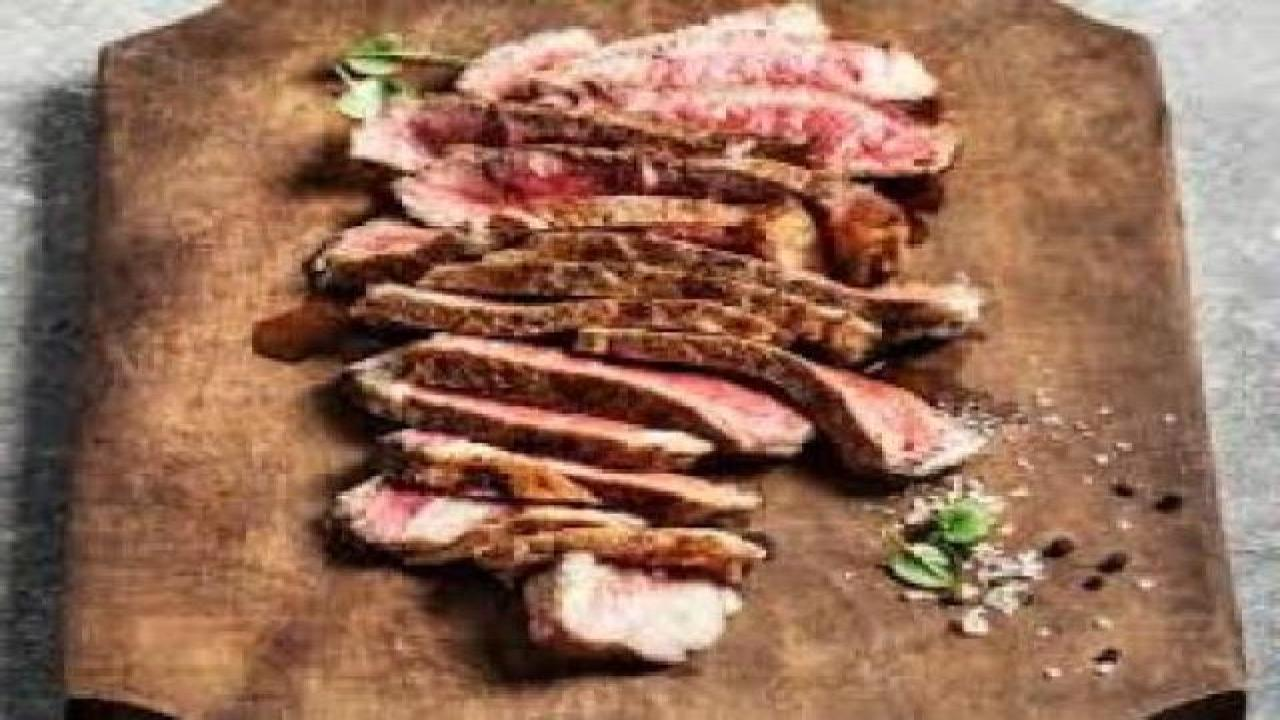Carne: (248, 13, 984, 701)
